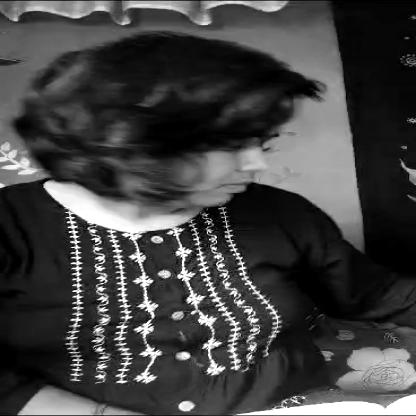Distracted: (75, 49, 284, 211)
